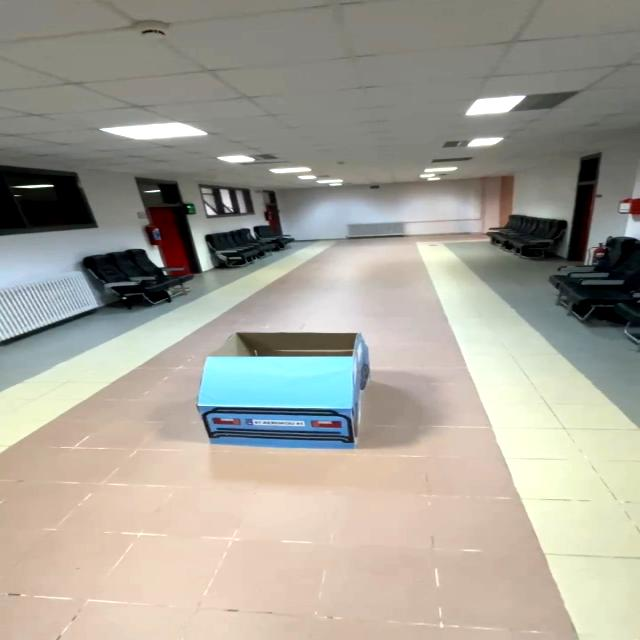blue_car: (185, 312, 378, 479)
